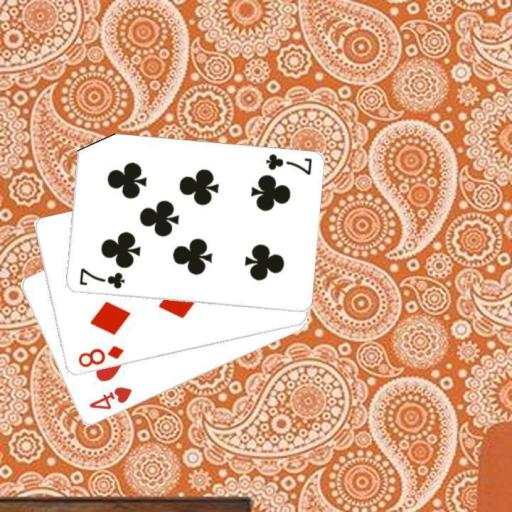card-corner: (85, 384, 133, 412), (75, 343, 125, 369), (262, 151, 314, 176), (75, 265, 126, 290)
